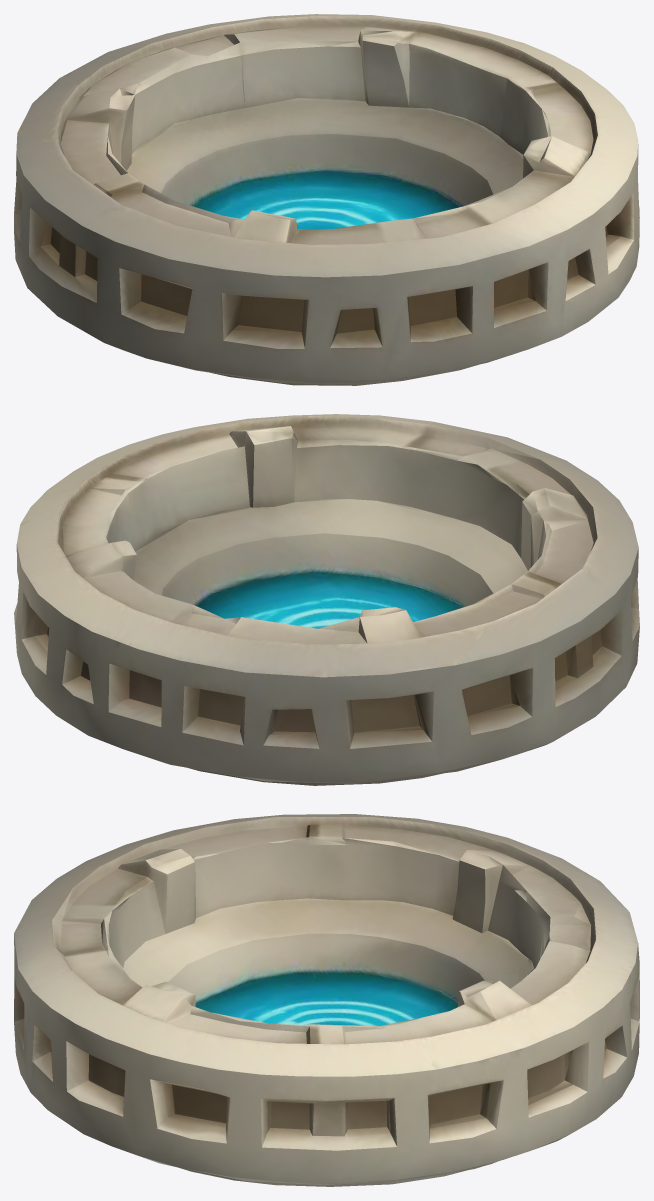
Rendered from m2NeutralRing.glb.
3 renders of one model, top to bottom at view 1: azimuth 30°, elevation 25°; view 2: azimuth 150°, elevation 25°; view 3: azimuth 270°, elevation 25°, orthographic.
Visible parts, largest first — view 1: model; view 2: model; view 3: model.
Part boxes in pixels (x1=…): model: x1=14, y1=14, x2=639, y2=385; model: x1=14, y1=414, x2=639, y2=785; model: x1=14, y1=814, x2=639, y2=1186.
Bounding box in the file's own units: 1.9 × 0.5159 × 1.9.
Materials: 1 (1 with a texture image).
